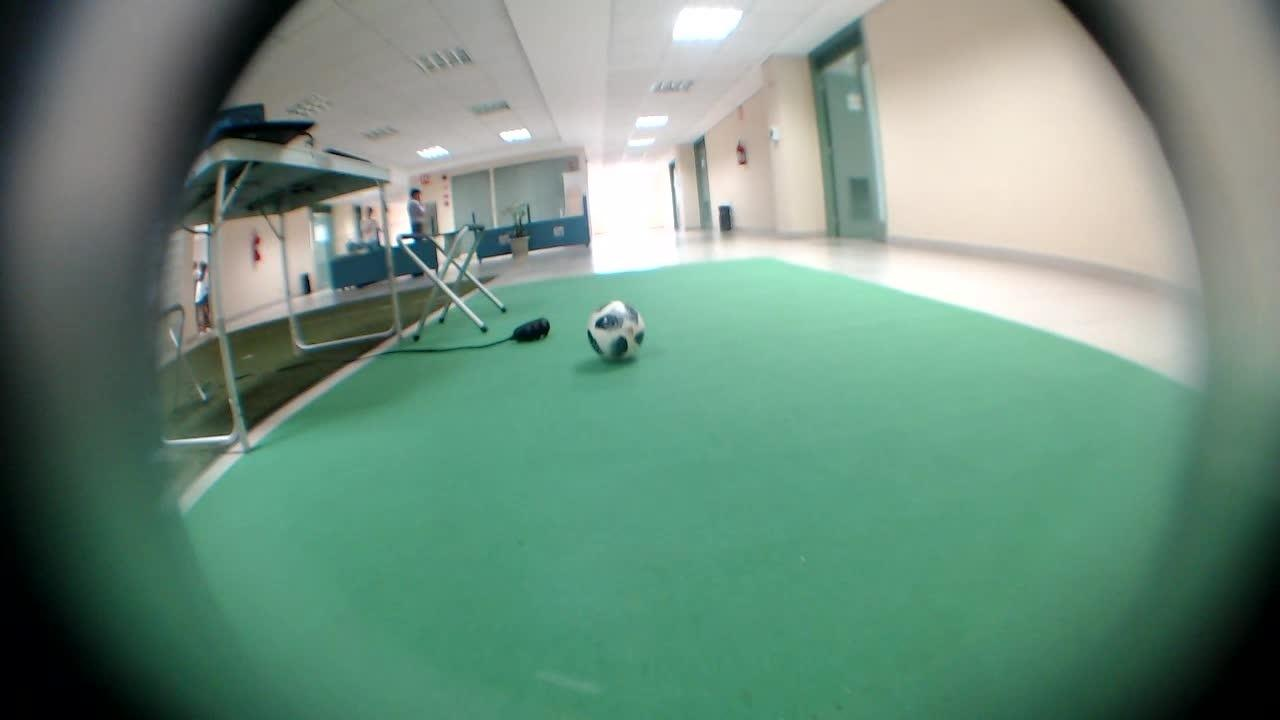ball: (578, 298, 647, 363)
